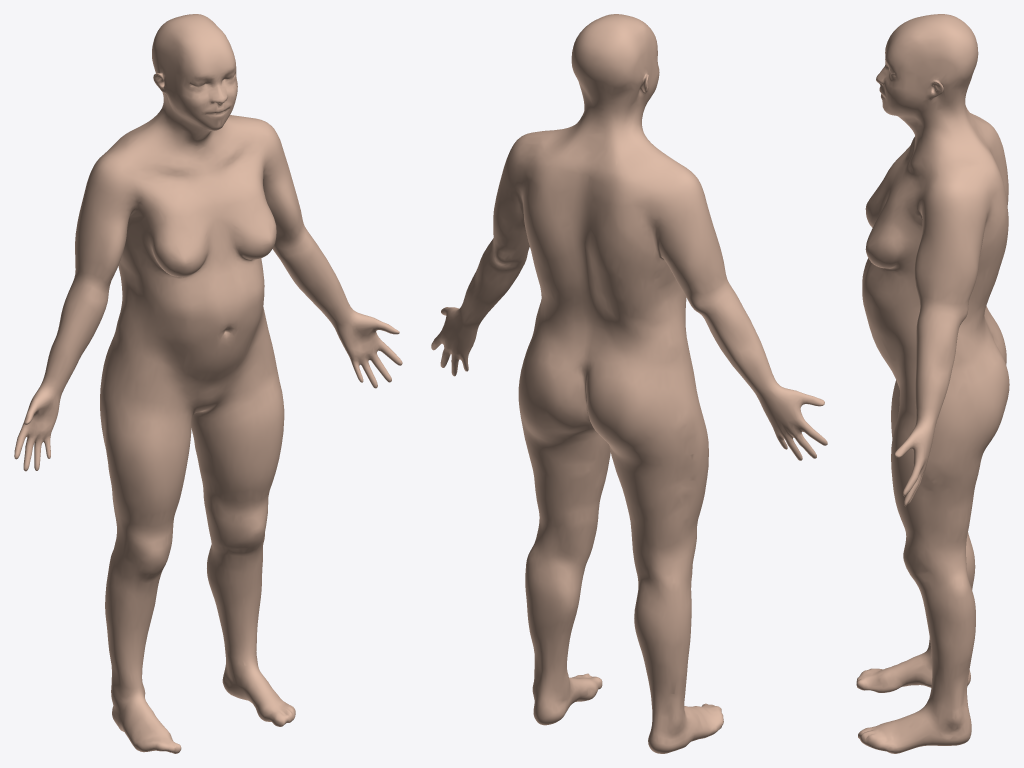
Rendered from adult_female.surface.LOD1.glb.
3 renders of one model, left to right at view 1: azimuth 30°, elevation 25°; view 2: azimuth 150°, elevation 25°; view 3: azimuth 270°, elevation 25°, orthographic. The views are drawn at different scales.
Visible parts, largest first — view 1: ADULT.FEMALE.SURFACE.SKIN; view 2: ADULT.FEMALE.SURFACE.SKIN; view 3: ADULT.FEMALE.SURFACE.SKIN.
Boxes of the visible parts, box(x1,y1,x2,y2) form: ADULT.FEMALE.SURFACE.SKIN: box(14, 14, 402, 753); ADULT.FEMALE.SURFACE.SKIN: box(431, 14, 827, 753); ADULT.FEMALE.SURFACE.SKIN: box(856, 14, 1009, 753).
Bounding box in the file's own units: 0.9668 × 1.67 × 0.3292.
